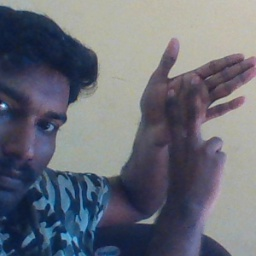N: (137, 36, 256, 176)
